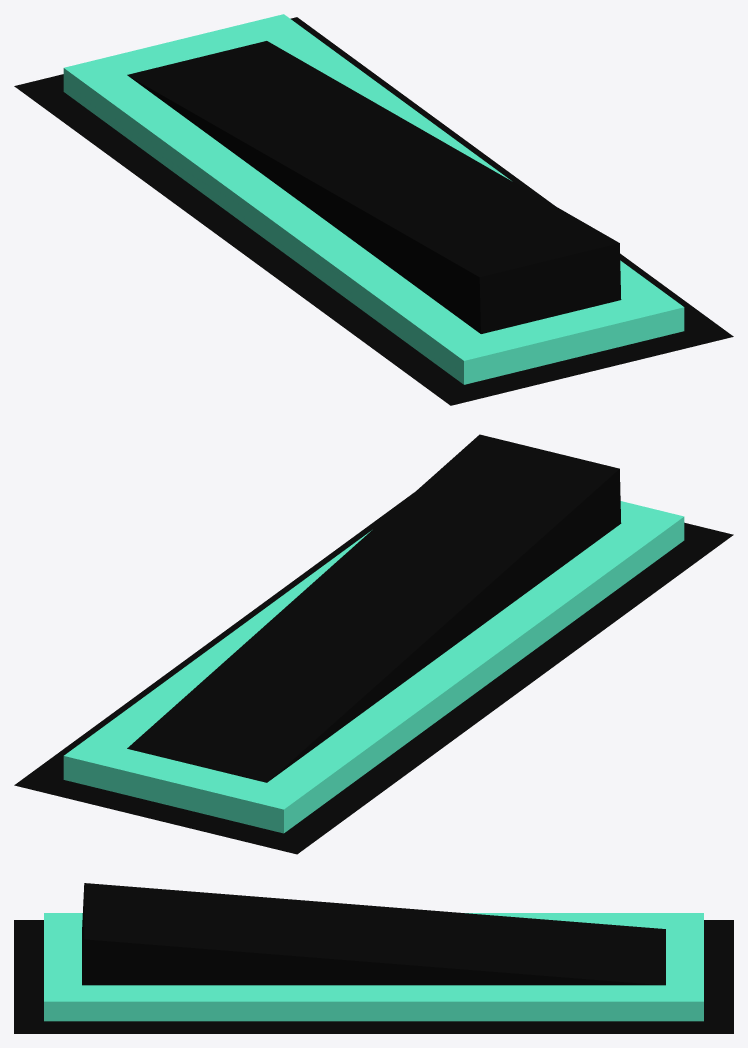
The model's file is Switch.fbx.
3 renders of one model, top to bottom at view 1: azimuth 30°, elevation 25°; view 2: azimuth 150°, elevation 25°; view 3: azimuth 270°, elevation 25°, orthographic. The views are drawn at different scales.
Parts seen in each view (by area): view 1: Switch; view 2: Switch; view 3: Switch.
Part boxes in pixels (left/top/right/bottom): Switch: left=14, top=14, right=733, bottom=405; Switch: left=14, top=434, right=733, bottom=854; Switch: left=14, top=883, right=733, bottom=1033.
Size of the model in its own units: 1.62 by 0.438 by 4.34.
